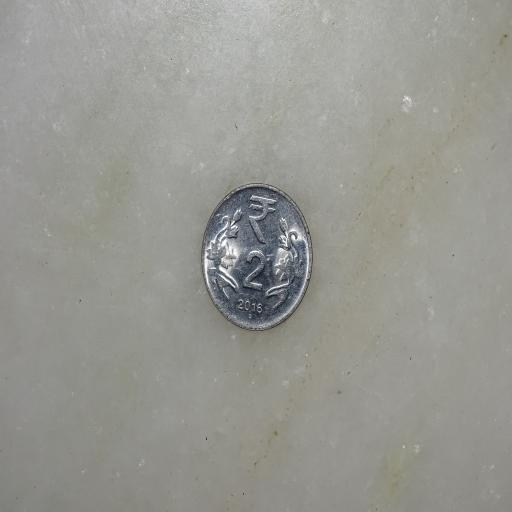rupee2: (197, 181, 316, 336)
